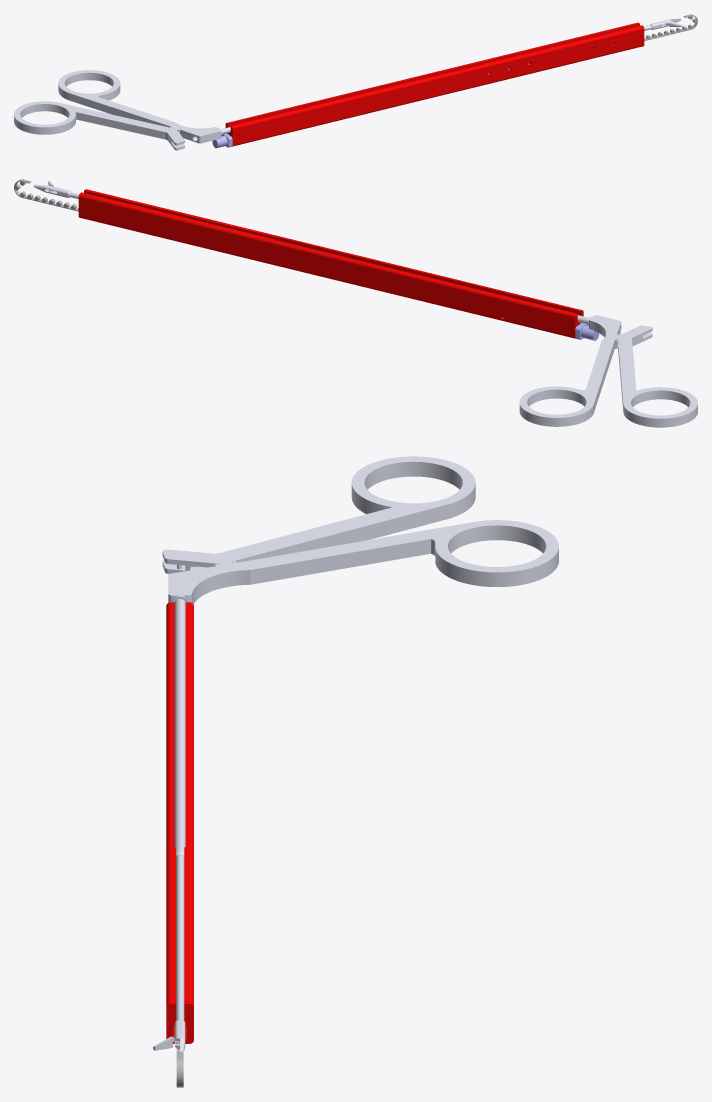
The model's file is microkiap v4 (hooking position) (FULLY BODY, JAW OPEN).fbx.
3 views of the same model, one above another, from view 1: azimuth 30°, elevation 25°; view 2: azimuth 150°, elevation 25°; view 3: azimuth 270°, elevation 25° (orthographic). The views are drawn at different scales.
Visible parts, largest first — view 1: imagetostl_mesh3, imagetostl_mesh1, imagetostl_mesh0; view 2: imagetostl_mesh3, imagetostl_mesh1, imagetostl_mesh0; view 3: imagetostl_mesh1, imagetostl_mesh3.
Boxes of the visible parts, left/top/right/bottom form: imagetostl_mesh3: left=225, top=22, right=644, bottom=146; imagetostl_mesh1: left=14, top=18, right=682, bottom=150; imagetostl_mesh0: left=644, top=14, right=697, bottom=40; imagetostl_mesh3: left=78, top=189, right=583, bottom=338; imagetostl_mesh1: left=33, top=180, right=697, bottom=427; imagetostl_mesh0: left=14, top=179, right=78, bottom=211; imagetostl_mesh1: left=153, top=456, right=558, bottom=1052; imagetostl_mesh3: left=166, top=602, right=193, bottom=1043.
Size of the model in its own units: 30897 by 1050 by 8755.
